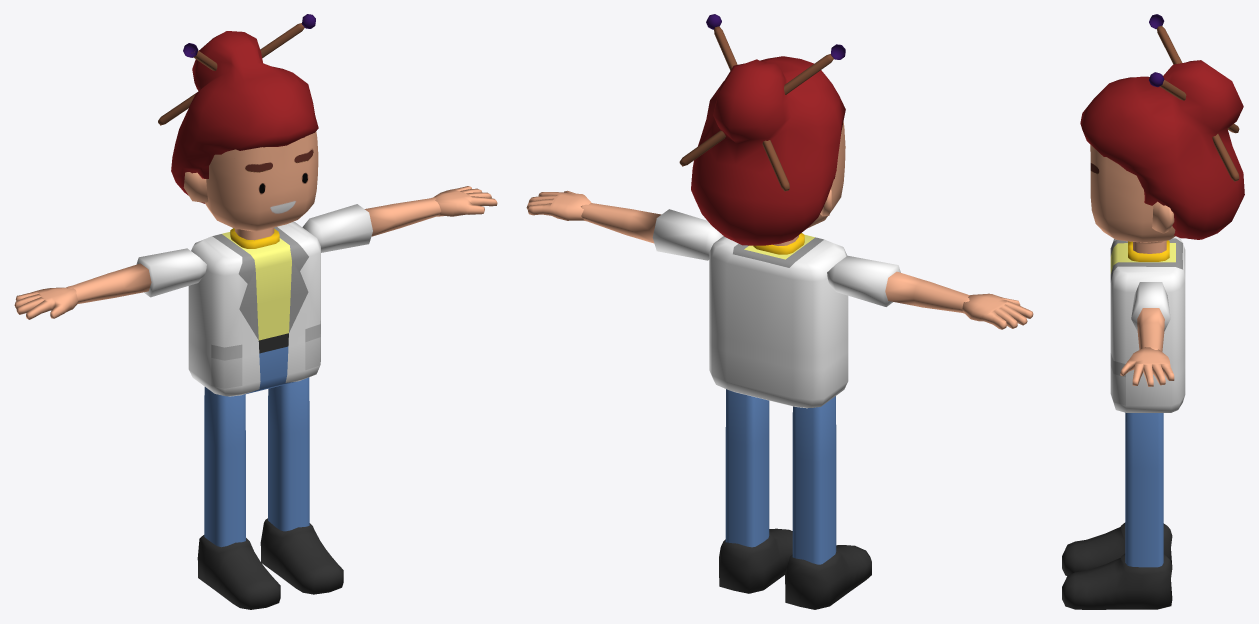
File: NPC_White02_RedHair03.gltf
3 renders of one model, left to right at view 1: azimuth 30°, elevation 25°; view 2: azimuth 150°, elevation 25°; view 3: azimuth 270°, elevation 25°, orthographic. The views are drawn at different scales.
Parts seen in each view (by area): view 1: NPC_Corpo_White2_RedHair.003; view 2: NPC_Corpo_White2_RedHair.003; view 3: NPC_Corpo_White2_RedHair.003.
Boxes of the visible parts, x1=… form: NPC_Corpo_White2_RedHair.003: x1=14, y1=14, x2=497, y2=609; NPC_Corpo_White2_RedHair.003: x1=526, y1=14, x2=1033, y2=609; NPC_Corpo_White2_RedHair.003: x1=1062, y1=14, x2=1244, y2=609.
Size of the model in its own units: 2.31 by 2.5 by 0.7676.
Materials: 1 (1 with a texture image).
